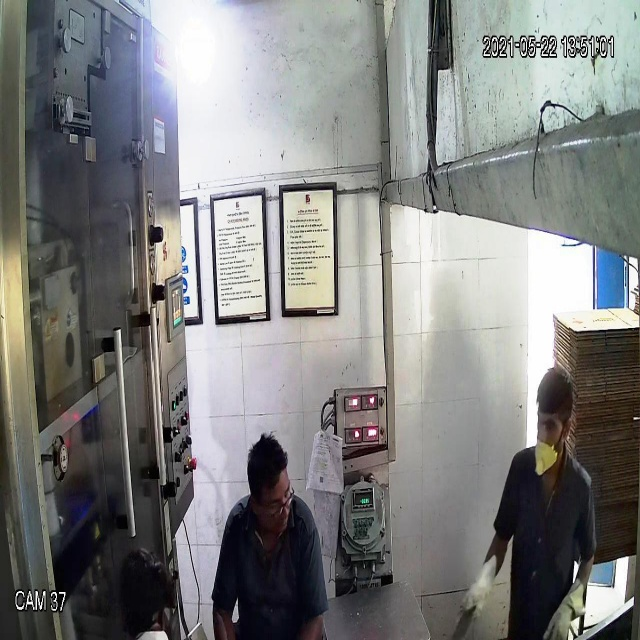Gafas: (246, 484, 298, 525)
Sin_gafas: (530, 409, 566, 438)
